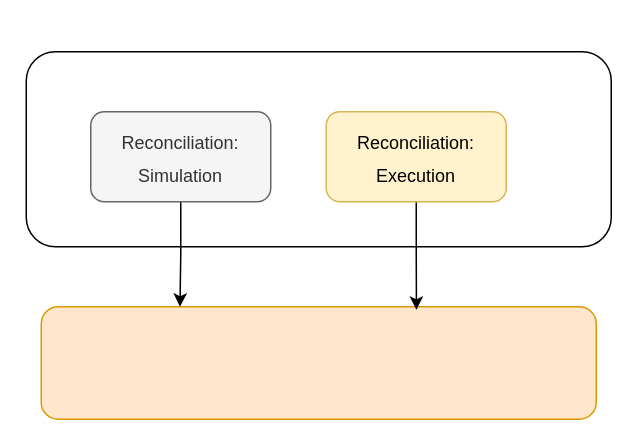
Image size: 638x446. Some labels were removed from this diagram. Here are the shapes that lost their labels. From the top down, the box of each, then its label:
(25, 50, 611, 247): Reconciliation: Partitioned (in a lightweight way)
(40, 305, 596, 419): Resource
